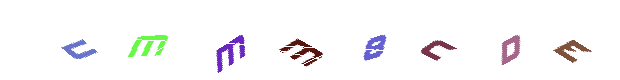8: (269, 0, 349, 80)
C: (275, 0, 355, 80)
D: (457, 0, 537, 80)
E: (460, 0, 540, 80)
M: (190, 0, 270, 80), (200, 0, 280, 80), (263, 0, 343, 80)
V: (109, 0, 189, 80)
